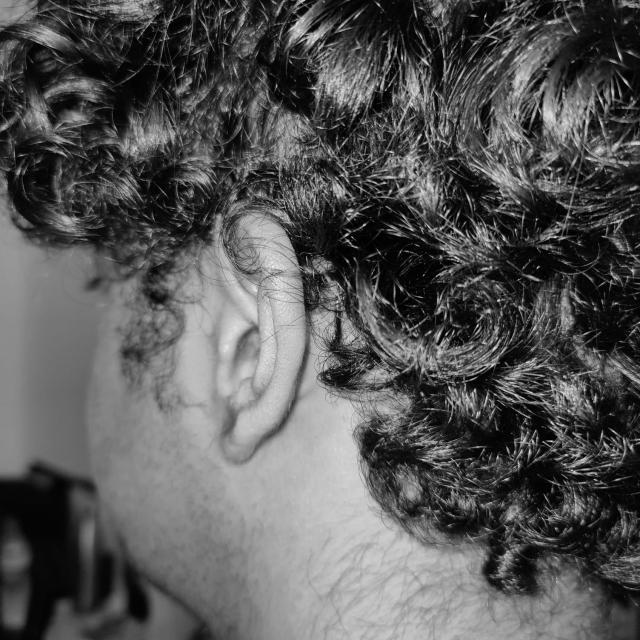ear: (221, 213, 307, 462)
